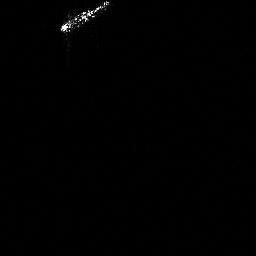ship: (58, 1, 112, 33)
